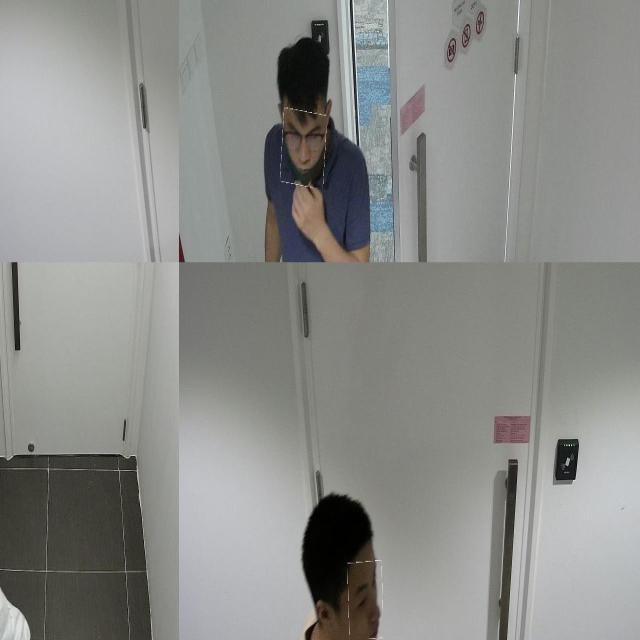hairnet: (281, 109, 326, 187)
